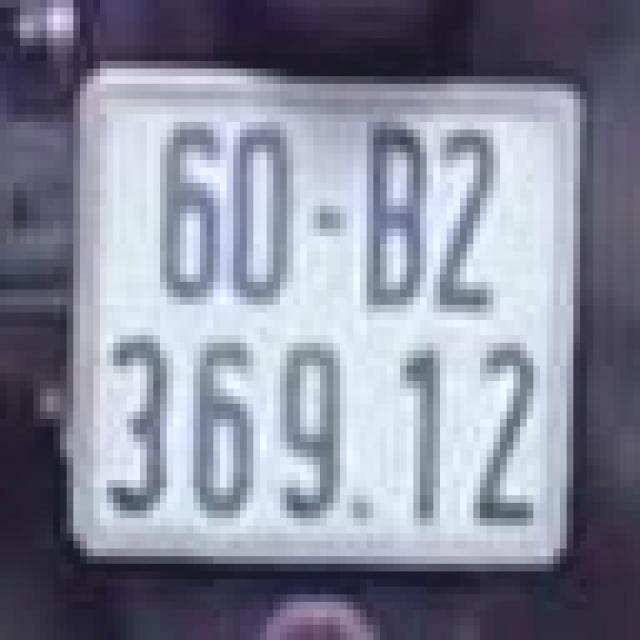0: (227, 115, 293, 312)
1: (374, 320, 454, 533)
2: (477, 332, 543, 552), (437, 107, 503, 320)
3: (97, 320, 170, 526)
6: (177, 324, 263, 545), (150, 103, 230, 308)
9: (277, 324, 343, 529)
B: (357, 92, 443, 336)
